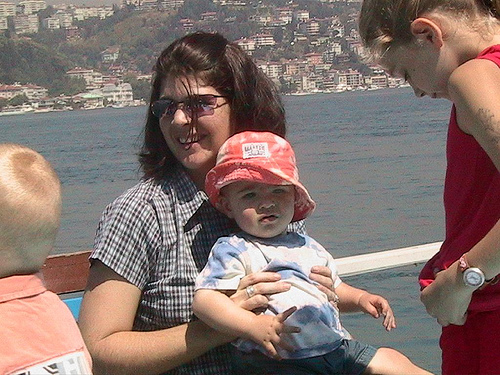without_mask: (145, 57, 240, 171), (369, 17, 480, 113), (219, 173, 304, 243)
